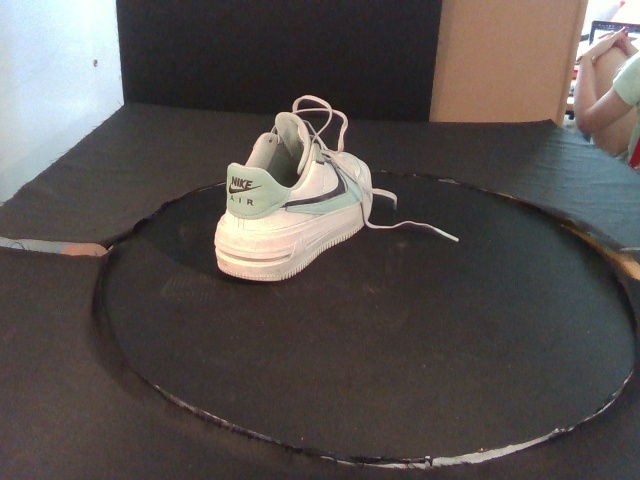shoe: (214, 112, 375, 283)
